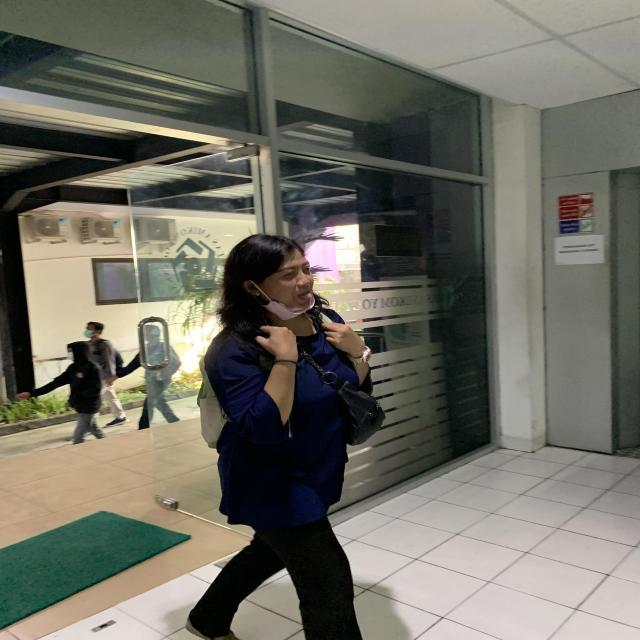hairnet: (222, 235, 338, 324)
